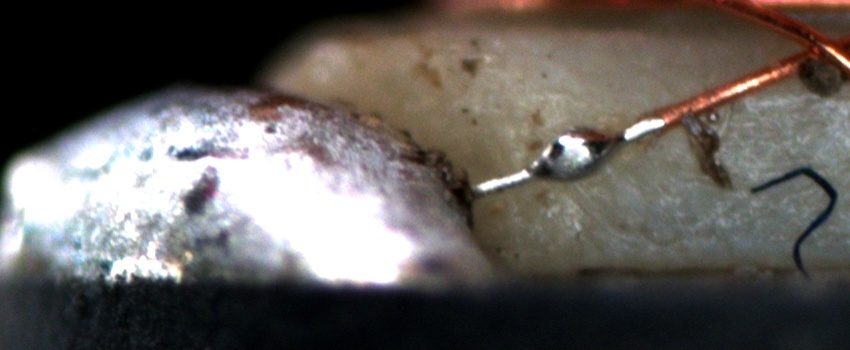CL: (774, 17, 848, 78)
DL: (733, 69, 850, 130)
TB: (536, 124, 625, 188)
TS: (471, 118, 664, 197)
TTCW: (463, 92, 714, 197)
